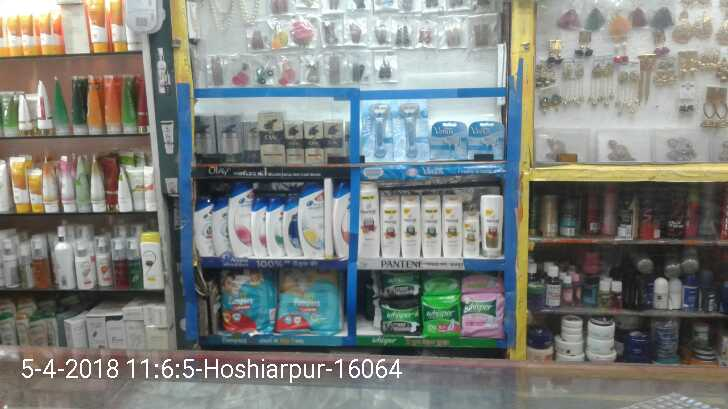venus: (392, 98, 428, 163), (362, 99, 392, 163), (433, 120, 466, 162), (469, 122, 503, 159)
